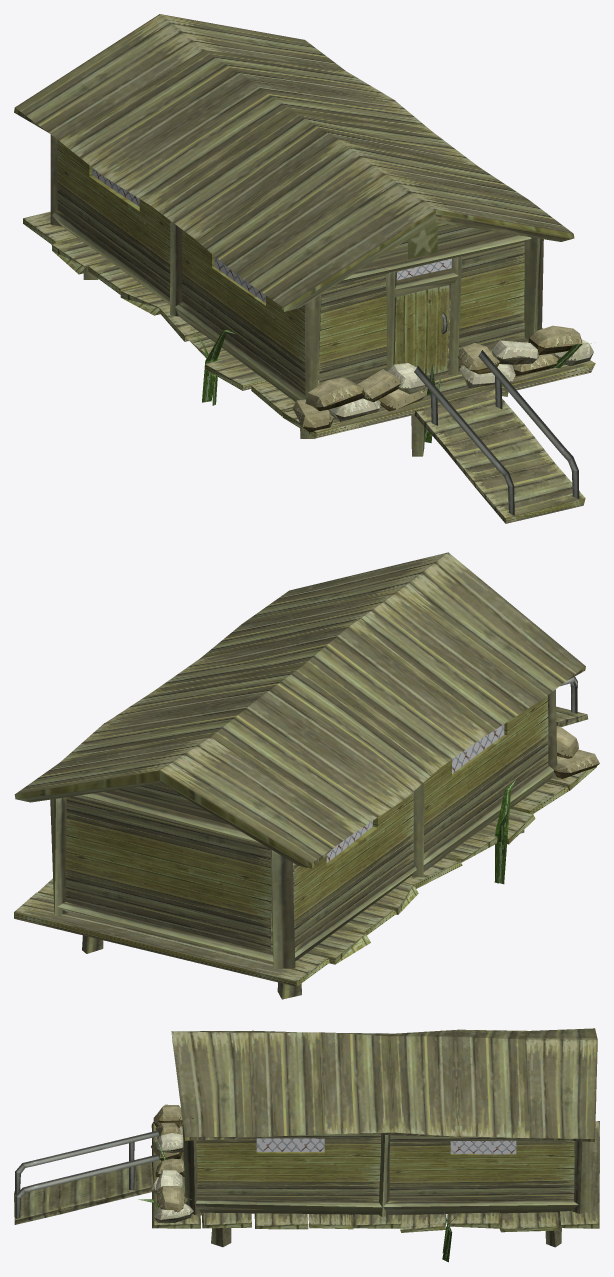
Rendered from C1SMHUT1H.obj.
3 renders of one model, top to bottom at view 1: azimuth 30°, elevation 25°; view 2: azimuth 150°, elevation 25°; view 3: azimuth 270°, elevation 25°, orthographic. The views are drawn at different scales.
Parts seen in each view (by area): view 1: Node 3, Node 2, Node 0, Node 7, Node 6, Node 10, Node 9, Node 8, Node 1, Node 4; view 2: Node 3, Node 2, Node 4, Node 6, Node 0, Node 10, Node 7; view 3: Node 5, Node 2, Node 3, Node 0, Node 9, Node 10, Node 4, Node 1, Node 7.
Boxes of the visible parts, x1,y1,x2,y2 form: Node 3: (14, 14, 395, 239); Node 2: (196, 80, 574, 311); Node 0: (23, 211, 595, 523); Node 7: (305, 222, 544, 399); Node 6: (52, 140, 305, 401); Node 10: (292, 363, 426, 432); Node 9: (457, 325, 593, 387); Node 8: (394, 285, 450, 375); Node 1: (414, 366, 514, 515); Node 4: (50, 135, 61, 226); Node 3: (14, 627, 488, 868); Node 2: (105, 552, 585, 734); Node 4: (50, 783, 295, 969); Node 6: (294, 695, 553, 960); Node 0: (14, 706, 596, 999); Node 10: (554, 726, 599, 778); Node 7: (308, 587, 557, 777); Node 5: (195, 1124, 578, 1216); Node 2: (171, 1030, 458, 1140); Node 3: (331, 1028, 597, 1141); Node 0: (14, 1121, 599, 1262); Node 9: (151, 1158, 193, 1222); Node 10: (151, 1104, 183, 1160); Node 4: (571, 1141, 590, 1213); Node 1: (15, 1130, 158, 1194); Node 7: (181, 1117, 202, 1215).
Bounding box in the file's own units: 8.29 × 5.76 × 17.05.
